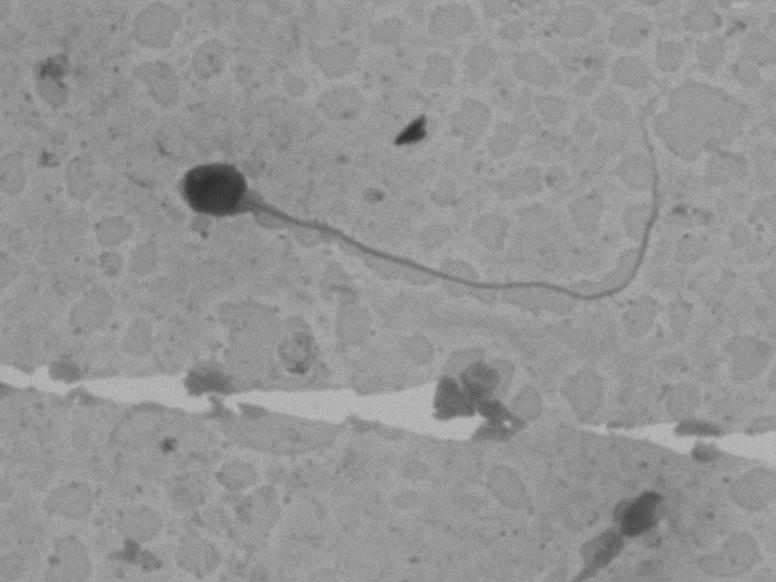Abnormal: (153, 88, 685, 336)
